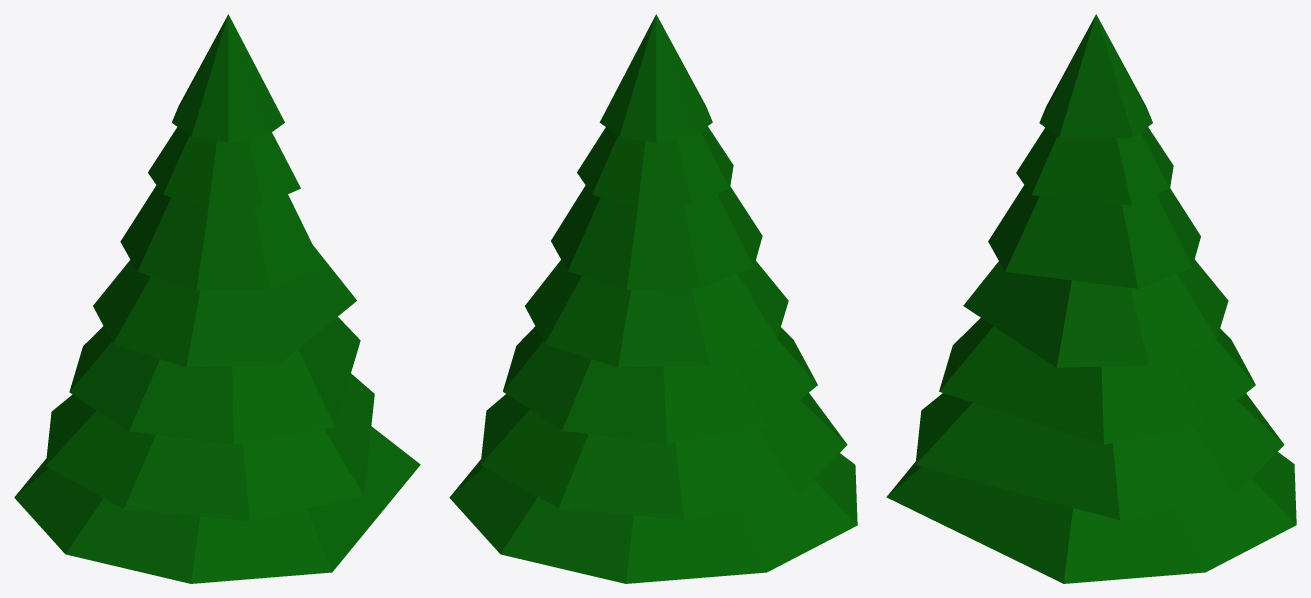
The model's file is PineTree2.fbx.
3 views of the same model, side by side, from view 1: azimuth 30°, elevation 25°; view 2: azimuth 150°, elevation 25°; view 3: azimuth 270°, elevation 25° (orthographic).
Parts seen in each view (by area): view 1: Tree:pCube1; view 2: Tree:pCube1; view 3: Tree:pCube1.
Part boxes in pixels (x1,y1,x2,y2): Tree:pCube1: (14, 14, 420, 583); Tree:pCube1: (449, 14, 857, 583); Tree:pCube1: (886, 14, 1296, 583).
Bounding box in the file's own units: 6.62 × 9.49 × 6.54.
